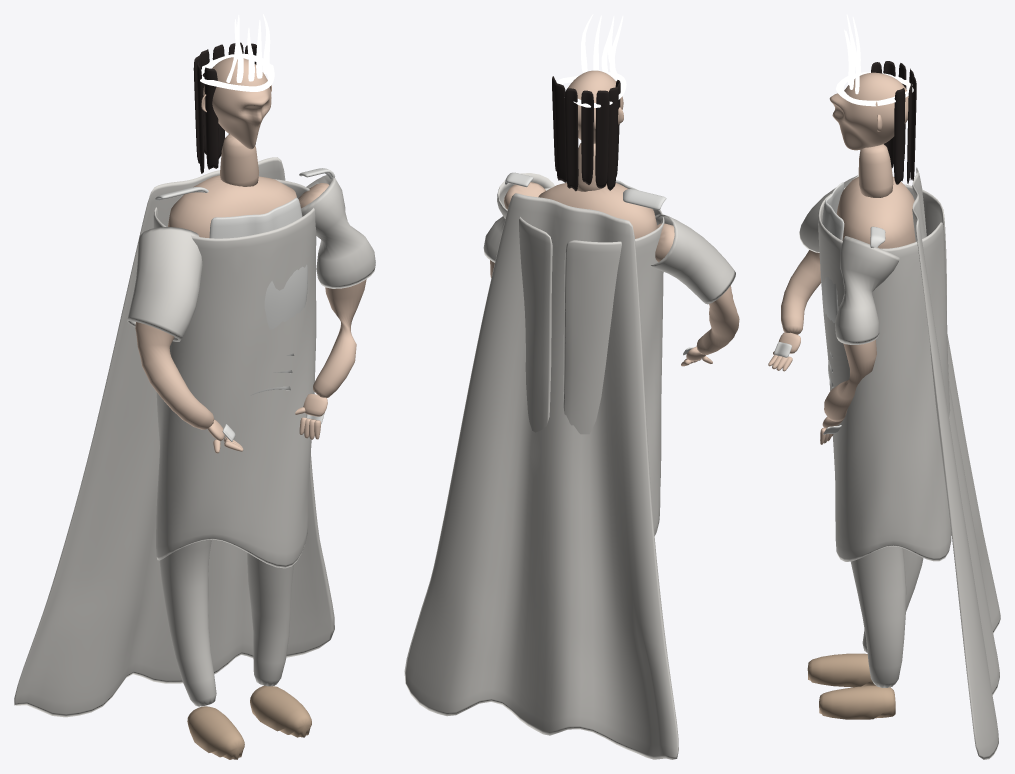
The model's file is basilica_ruler.glb.
The picture shows the model from 3 angles, left to right: view 1: azimuth 30°, elevation 25°; view 2: azimuth 150°, elevation 25°; view 3: azimuth 270°, elevation 25°; orthographic projection. The views are drawn at different scales.
Visible parts, largest first — view 1: Cape, Robe, SleeveR, LegR, LegL, SleeveL, Body, Plate, ArmR, Head, ArmL, BootL (+4 smaller); view 2: Cape, Robe, SleeveR, Body, ArmR, Hair4, Hair2, Hair3, Head, SleeveL, Hair1, Hair5 (+1 smaller); view 3: Robe, Cape, LegL, SleeveL, Body, Head, BootL, ArmR, BootR, ArmL, Neck, Plate (+6 smaller).
Boxes of the visible parts, x1,y1,x2,y2 form: Cape: (14, 157, 334, 717); Robe: (153, 179, 316, 568); SleeveR: (127, 227, 202, 341); LegR: (159, 539, 216, 706); LegL: (247, 553, 293, 686); SleeveL: (301, 175, 375, 288); Body: (168, 175, 296, 237); Plate: (209, 197, 307, 329); ArmR: (135, 322, 214, 429); Head: (203, 57, 271, 149); ArmL: (298, 183, 366, 397); BootL: (250, 685, 311, 737); Cape: (404, 193, 678, 759); Robe: (519, 187, 664, 535); SleeveR: (651, 214, 735, 304); Body: (538, 183, 657, 238); ArmR: (655, 223, 739, 354); Hair4: (595, 90, 609, 188); Hair2: (565, 88, 578, 191); Hair3: (581, 90, 593, 184); Head: (568, 70, 623, 143); SleeveL: (483, 173, 554, 262); Hair1: (554, 83, 566, 182); Hair5: (606, 86, 618, 190); Robe: (818, 184, 951, 561); Cape: (912, 167, 1000, 759); LegL: (851, 546, 906, 687); SleeveL: (835, 236, 899, 344); Body: (836, 176, 915, 248); Head: (829, 72, 908, 150); BootL: (819, 685, 895, 719); ArmR: (781, 250, 820, 334); BootR: (807, 653, 875, 687); ArmL: (824, 339, 876, 421); Neck: (858, 144, 893, 197); Plate: (820, 182, 844, 322).
Bounding box in the file's own units: 0.9136 × 2.06 × 0.637.
